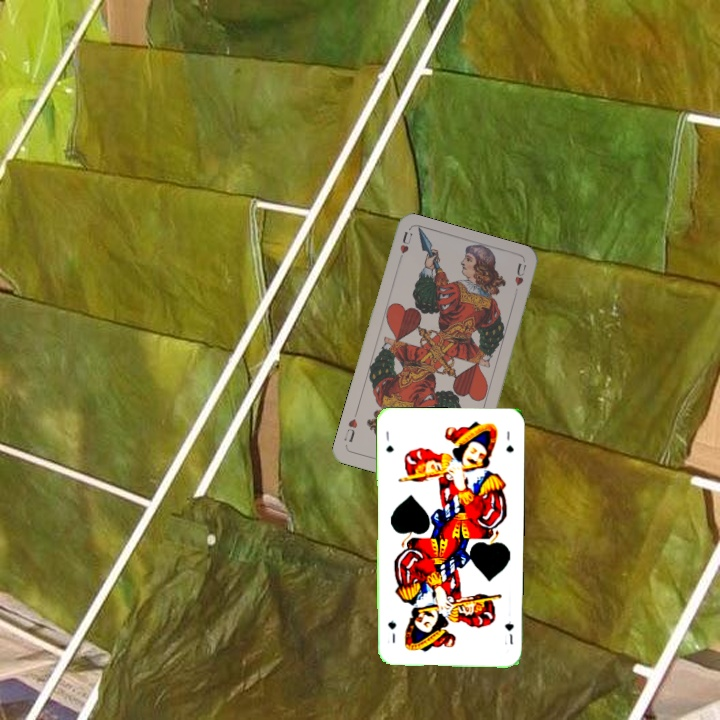GU: (500, 617, 516, 647), (382, 427, 396, 455)
HU: (394, 228, 415, 267)
